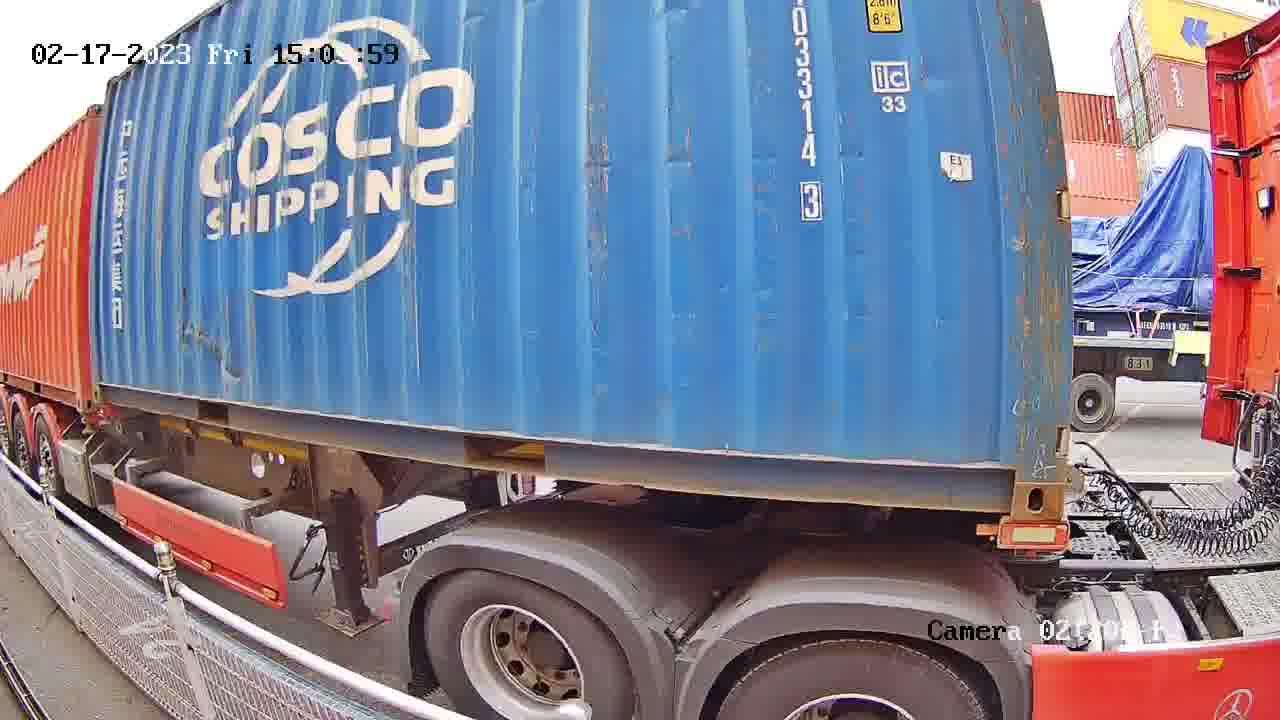Cone: (989, 520, 1070, 561), (94, 404, 114, 432), (76, 412, 94, 436)
Hole_L: (92, 371, 121, 409)
Hole_R: (952, 424, 1066, 521), (59, 374, 83, 414)
Tire: (427, 571, 627, 715), (721, 639, 982, 718)
